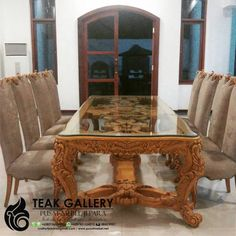Carving Table: (56, 86, 204, 226)
